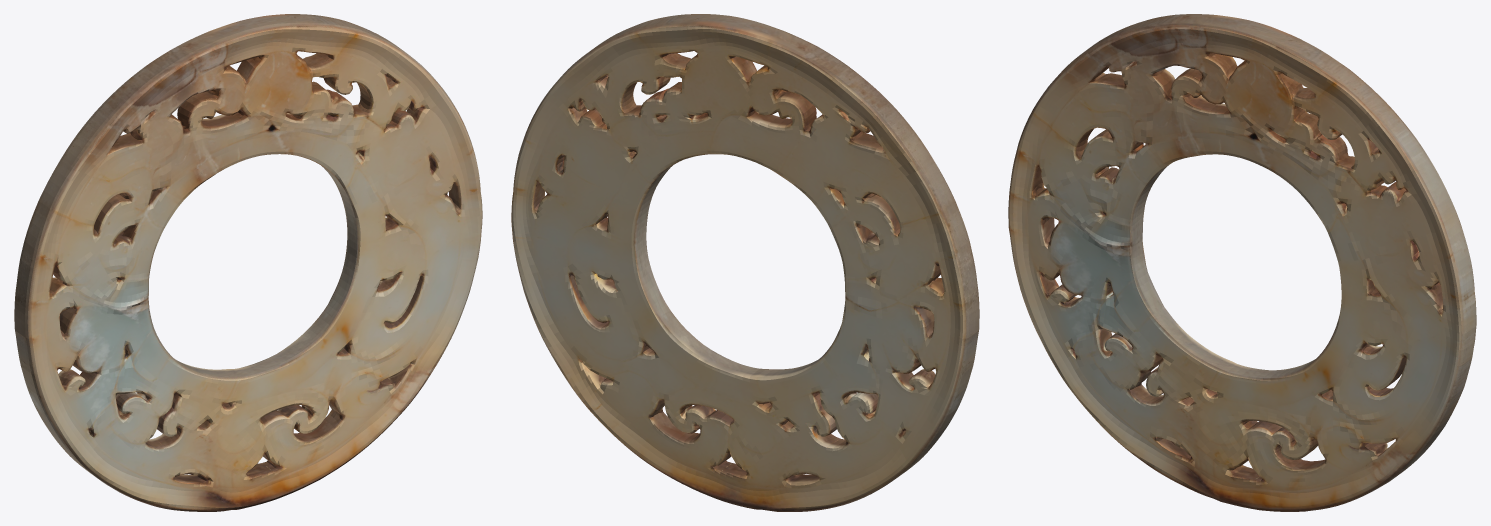
The model's file is 07-han-jade-bi.glb.
3 renders of one model, left to right at view 1: azimuth 30°, elevation 25°; view 2: azimuth 150°, elevation 25°; view 3: azimuth 330°, elevation 25°, orthographic.
Parts seen in each view (by area): view 1: Retopo_node_0; view 2: Retopo_node_0; view 3: Retopo_node_0.
Part boxes in pixels (x1,y1,x2,y2): Retopo_node_0: (14, 14, 482, 511); Retopo_node_0: (511, 14, 979, 511); Retopo_node_0: (1008, 14, 1476, 511).
Bounding box in the file's own units: 120 × 120 × 7.28.
Materials: 1 (1 with a texture image).
